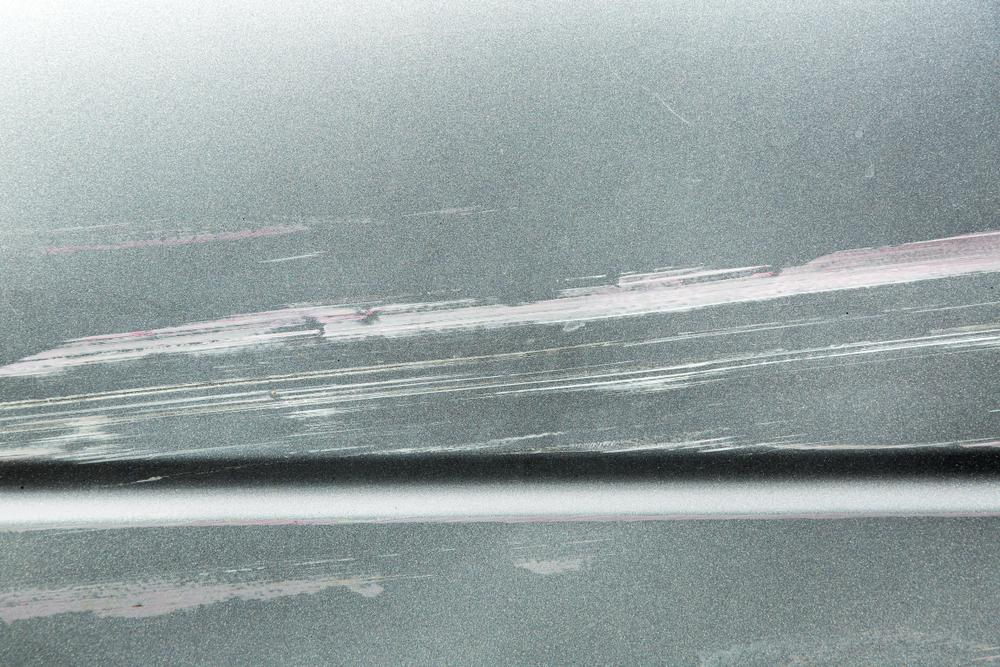scratch: (0, 223, 1000, 470), (0, 528, 636, 635), (0, 195, 540, 270)
